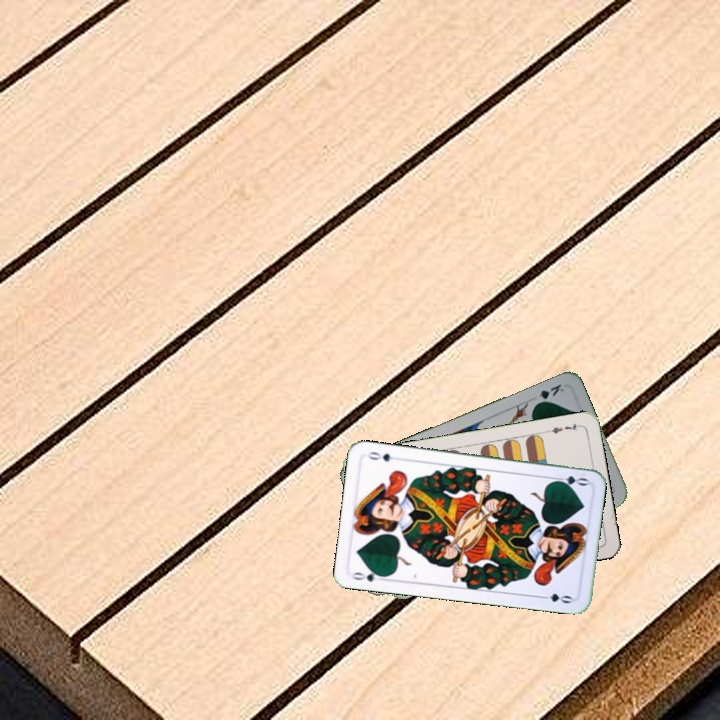E7: (543, 419, 583, 436)
GK: (531, 380, 567, 407)
GO: (348, 566, 389, 584), (549, 472, 590, 489)
